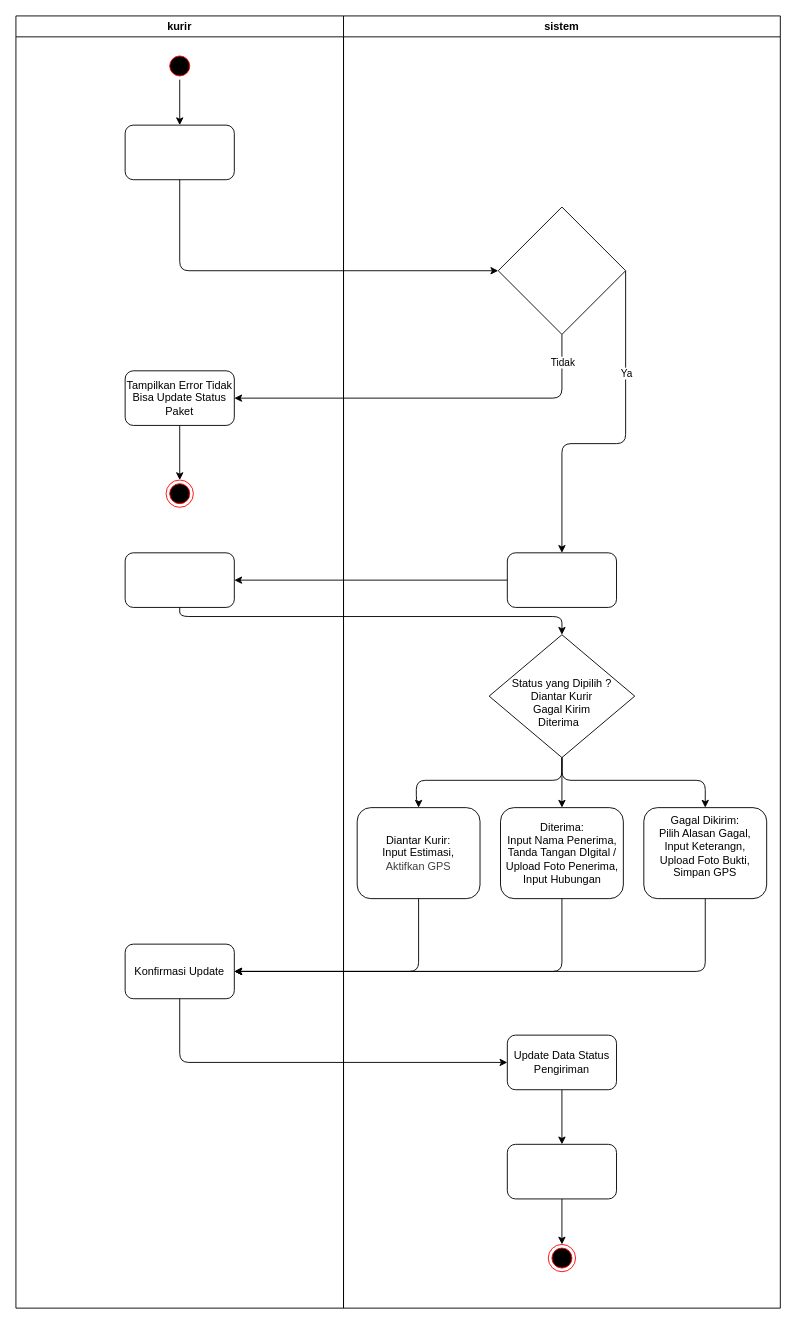
Image size: 796x1324. Some labels were removed from this diagram. The shapes that lost their labels are listed below. From the top down, each one's centre as x and y in pixels, then its label:
the point at 179,152: Scan / Input Nomor Resi
the point at 561,270: Validasi Resi Ditugaskkan ke Kurir Ini?
the point at 179,579: Pilih Status Baru
the point at 561,579: Tampilkan Data Paket dan Form Update Status Paket
the point at 561,1171: Tampilkan Konfirmasi Sukses
